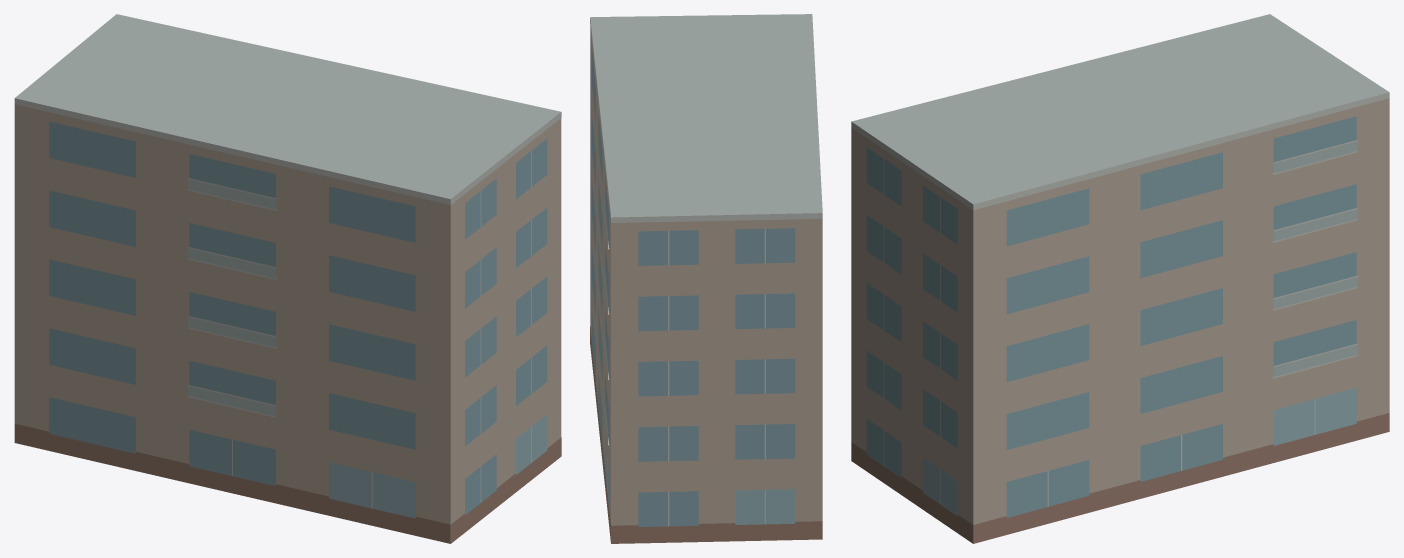
Rendered from survey-upis-32874885.glb.
The picture shows the model from 3 angles, left to right: view 1: azimuth 30°, elevation 25°; view 2: azimuth 150°, elevation 25°; view 3: azimuth 270°, elevation 25°; orthographic projection. The views are drawn at different scales.
Parts seen in each view (by area): view 1: survey-upis-32874885.tmp; view 2: survey-upis-32874885.tmp; view 3: survey-upis-32874885.tmp.
Part boxes in pixels (x1=…): survey-upis-32874885.tmp: x1=14, y1=14, x2=561, y2=543; survey-upis-32874885.tmp: x1=590, y1=14, x2=822, y2=543; survey-upis-32874885.tmp: x1=851, y1=14, x2=1389, y2=543.
Bounding box in the file's own units: 16.97 × 14.1 × 20.27.
